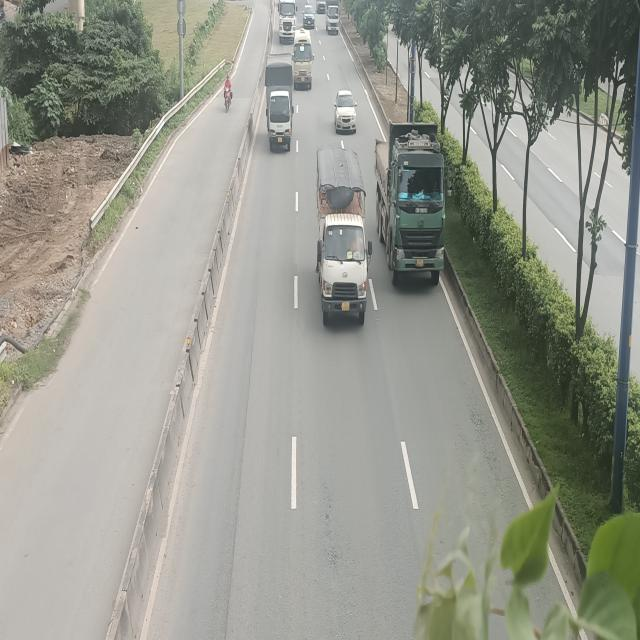car: (334, 91, 356, 134), (302, 4, 316, 29)
coach: (292, 29, 314, 90)
container: (375, 124, 446, 285)
truck: (315, 144, 372, 320), (266, 53, 294, 149), (279, 0, 297, 46), (326, 0, 338, 34)
